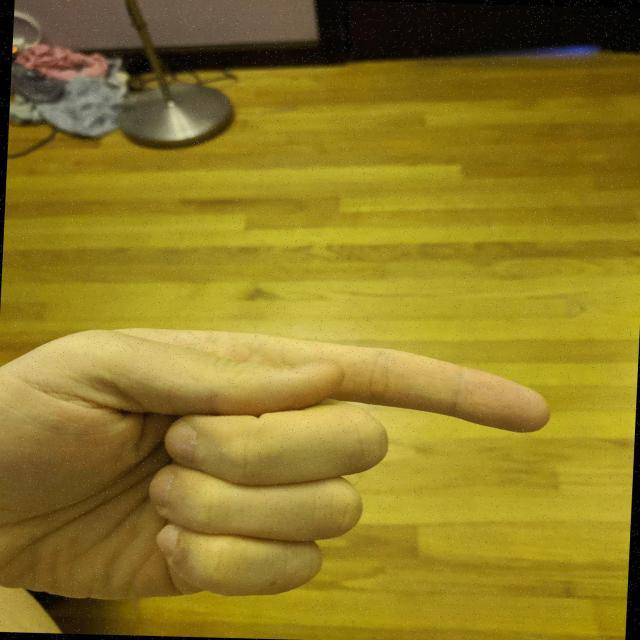G: (0, 310, 567, 620)
